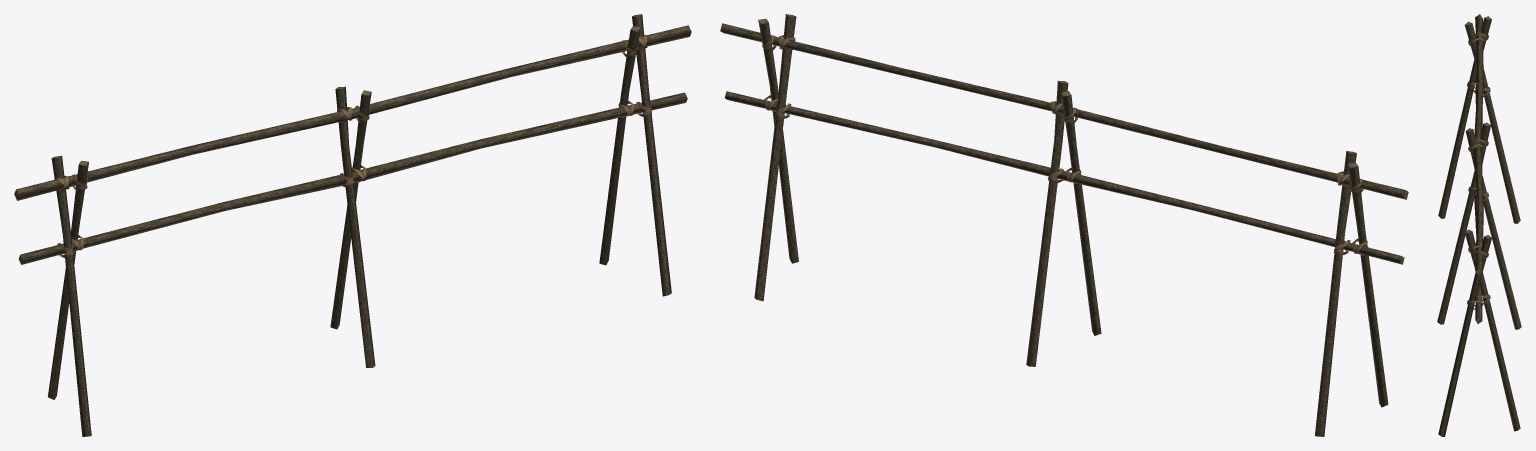
The model's file is thm_dant_fence_8m_l2.fbx.
3 renders of one model, left to right at view 1: azimuth 30°, elevation 25°; view 2: azimuth 150°, elevation 25°; view 3: azimuth 270°, elevation 25°, orthographic. The views are drawn at different scales.
Parts seen in each view (by area): view 1: mesh_node; view 2: mesh_node; view 3: mesh_node.
Boxes of the visible parts, x1=… form: mesh_node: x1=14, y1=14, x2=691, y2=436; mesh_node: x1=720, y1=14, x2=1408, y2=436; mesh_node: x1=1437, y1=14, x2=1521, y2=436.
Bounding box in the file's own units: 7.96 × 2.95 × 1.12.
